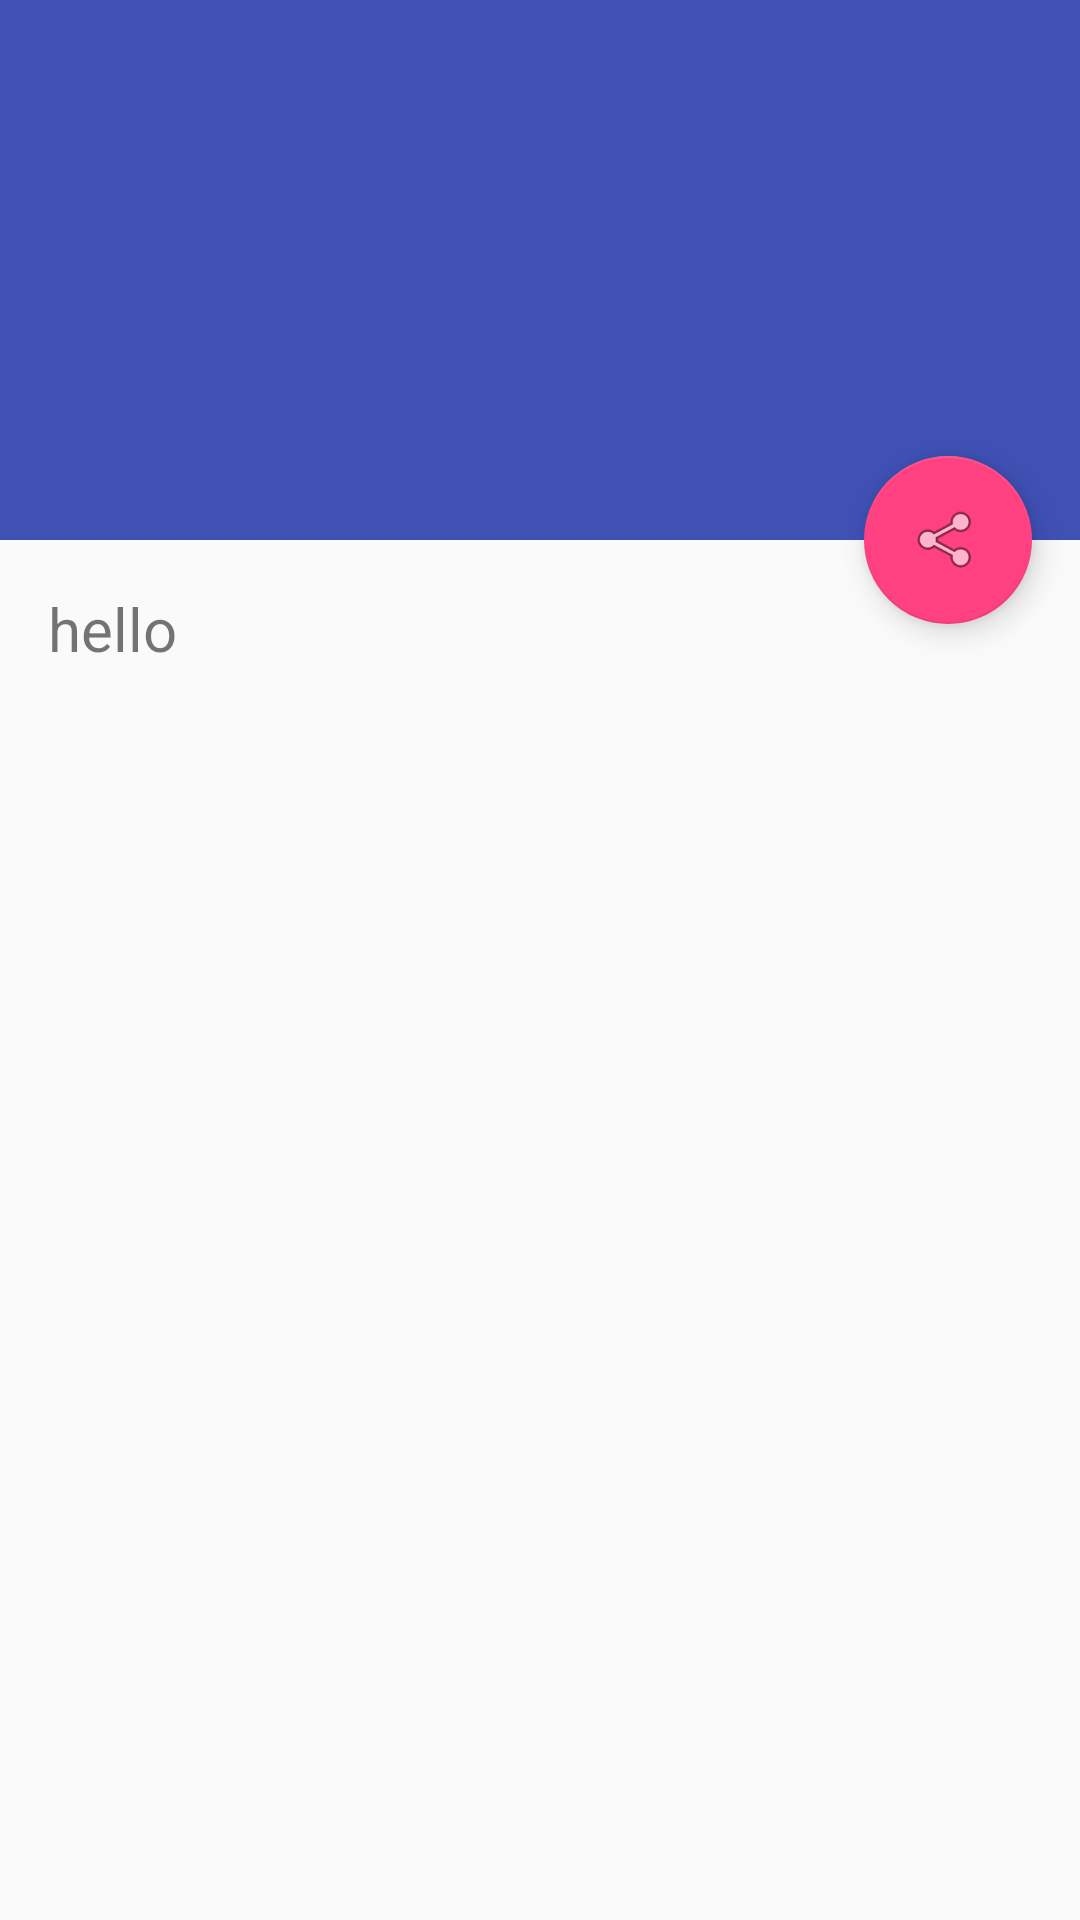

Icons on this 1080px x 1920px Android screen, each with the point to tap as (x,y):
share: (948,540)
